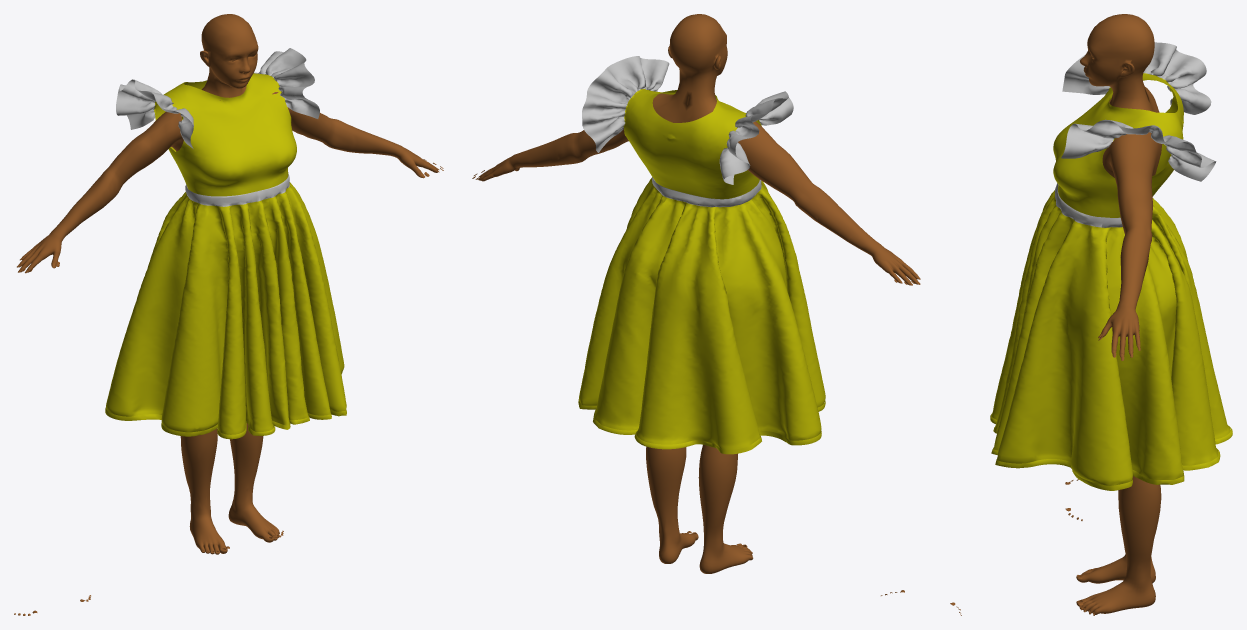
File: dress10.glb
3 views of the same model, side by side, from view 1: azimuth 30°, elevation 25°; view 2: azimuth 150°, elevation 25°; view 3: azimuth 270°, elevation 25° (orthographic). The views are drawn at different scales.
Parts seen in each view (by area): view 1: PinkDrees#14 (OBJ), Body.003; view 2: PinkDrees#14 (OBJ), Body.003; view 3: PinkDrees#14 (OBJ), Body.003.
Part boxes in pixels (x1,y1,x2,y2): PinkDrees#14 (OBJ): [105, 48, 346, 439]; Body.003: [19, 14, 438, 554]; PinkDrees#14 (OBJ): [578, 56, 825, 454]; Body.003: [478, 14, 917, 573]; PinkDrees#14 (OBJ): [990, 42, 1232, 490]; Body.003: [1076, 14, 1162, 614].
Bounding box in the file's own units: 1.67 × 1.89 × 0.7032.
